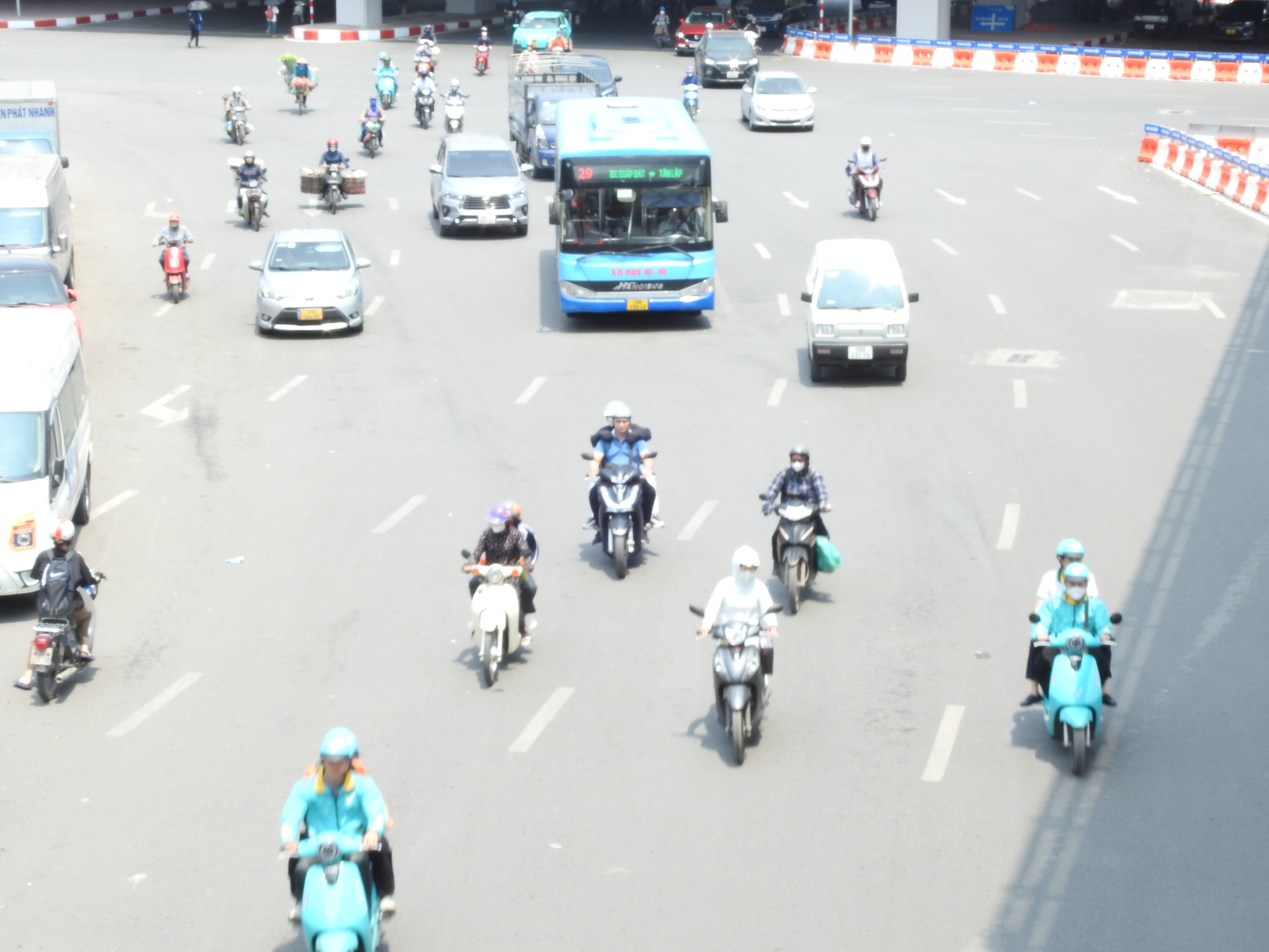bus: (551, 98, 718, 321), (0, 251, 96, 612)
car: (790, 235, 920, 386), (253, 224, 369, 336), (428, 131, 531, 241), (739, 70, 817, 134), (696, 28, 759, 88), (509, 9, 576, 56)
motorbike: (291, 828, 393, 951), (1032, 626, 1113, 778), (703, 611, 776, 768), (459, 558, 538, 690), (16, 587, 100, 706), (585, 452, 655, 578), (763, 503, 840, 609), (15, 620, 96, 706), (230, 158, 270, 230), (156, 241, 192, 301), (844, 165, 882, 221)
truck: (0, 97, 77, 292)
